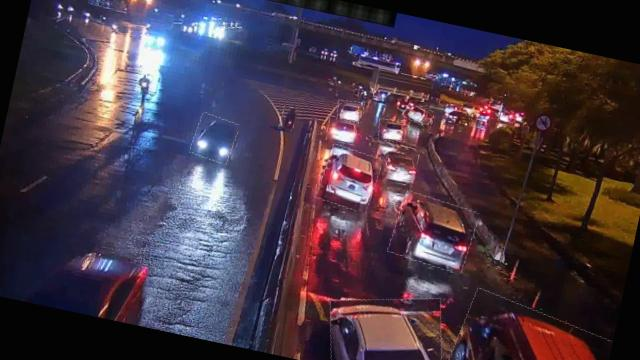Bike: (279, 106, 297, 130), (135, 71, 152, 96)
Bus: (443, 291, 616, 360)
Car: (320, 282, 453, 360), (388, 192, 479, 274), (316, 144, 382, 212), (190, 112, 239, 164), (372, 140, 421, 186), (324, 114, 360, 146), (377, 116, 411, 145), (335, 98, 365, 124), (403, 102, 435, 126)
Truck: (374, 68, 450, 110)
